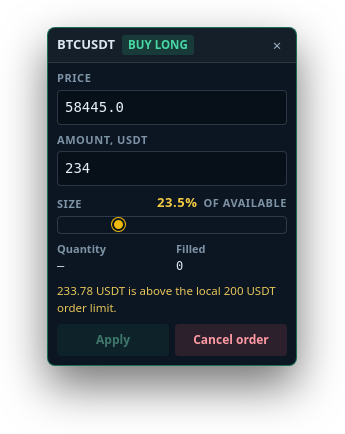
Test: FuturesOrderEditor › keeps Apply disabled when a slider-derived amount exceeds the local ceiling
This screenshot has width=345, height=434.
Step 1. Set the slider named "Working order size percent" to "25" → (118, 224), box [57,216,287,234]
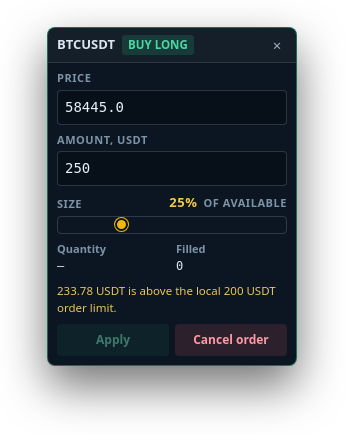
Expected: the button "Apply" is disabled, [57,324,169,356]
Now the field named "Order amount in USDT" holds "250", box [57,151,287,186]
